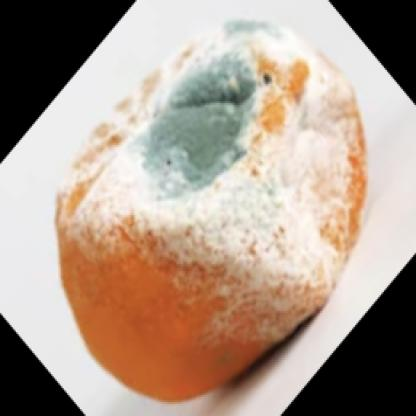rotten: (54, 21, 370, 408)
